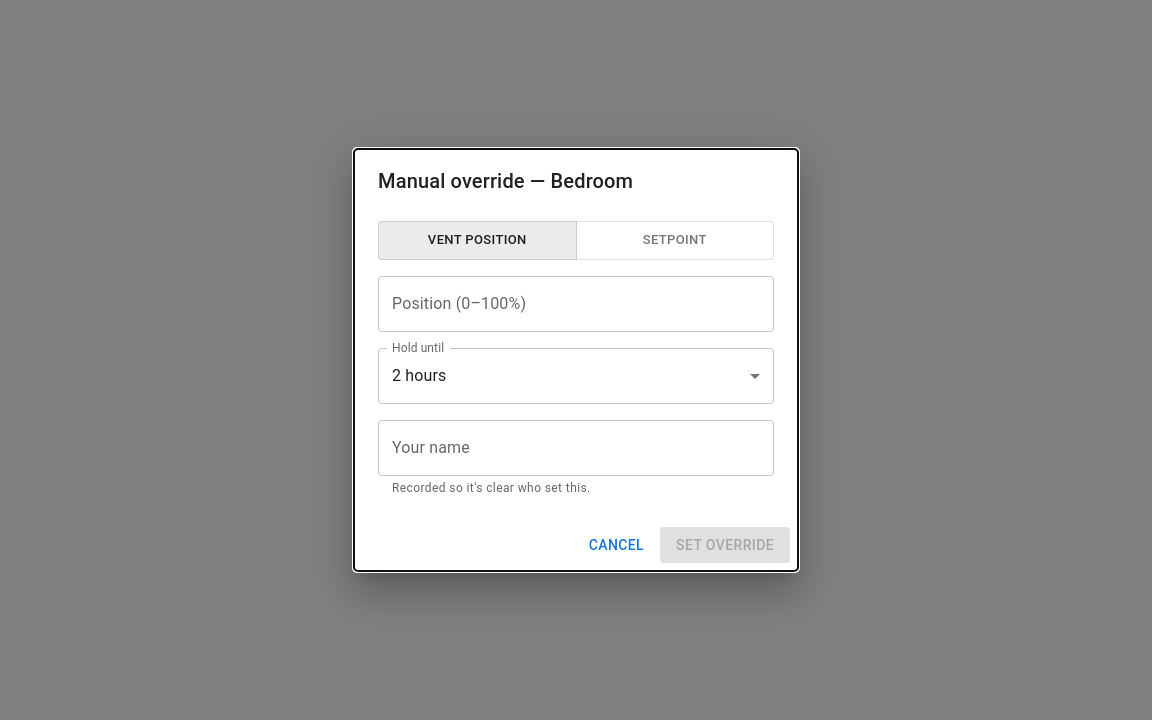
Test case: ZoneOverrideDialog › submits a position override with the entered value, default hold type, and trimmed actor name; notifies success and closes
This screenshot has width=1152, height=720.
Type "35" into the number field labelled "Position (0–100%)".
click(576, 304); type("35")  # box x1=378 y1=276 x2=774 y2=332
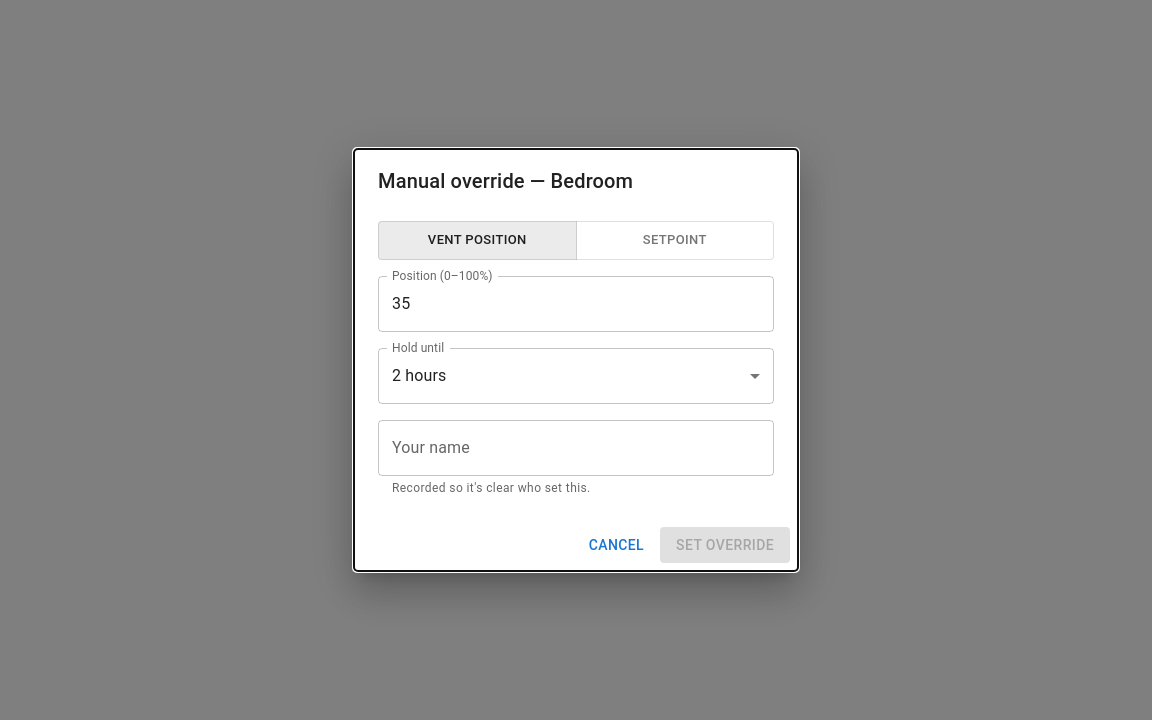
Type "  Martin  " into the field labelled "Your name".
click(576, 448); type("  Martin  ")  # box x1=378 y1=420 x2=774 y2=476
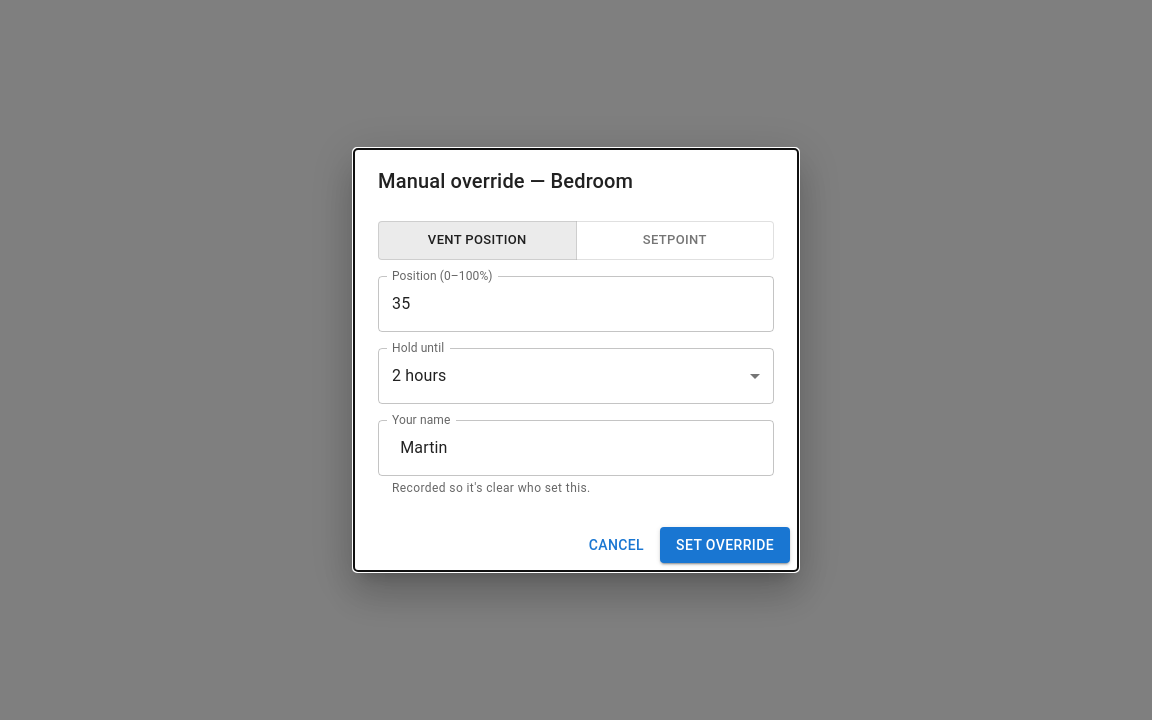
Click the button "Set override".
click(725, 545)  # box x1=660 y1=527 x2=790 y2=563
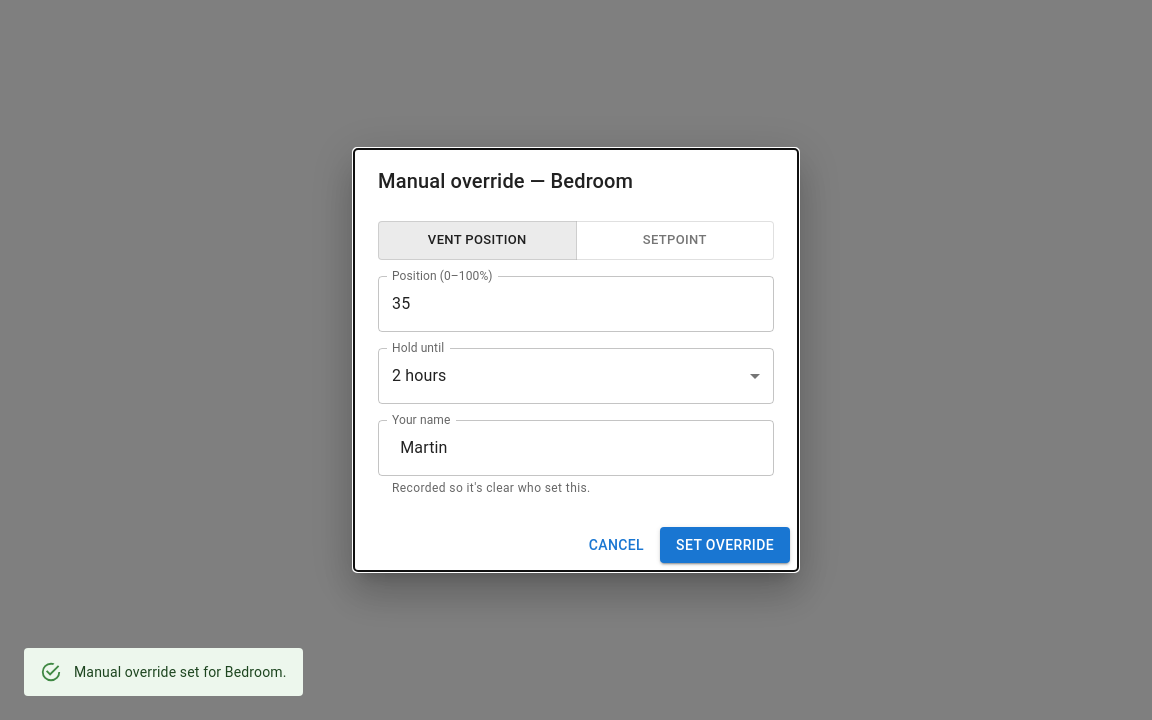
Expected: the text "Manual override set for Bedroom." is shown, x1=74 y1=664 x2=287 y2=680
